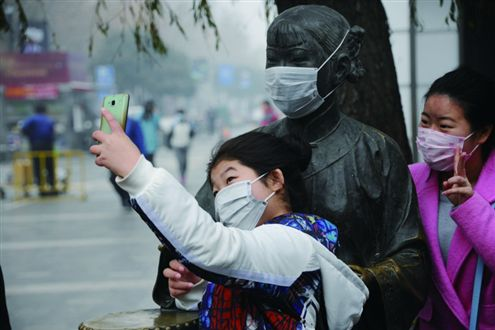face_mask: (266, 38, 325, 119), (417, 98, 470, 171), (210, 160, 265, 225)
